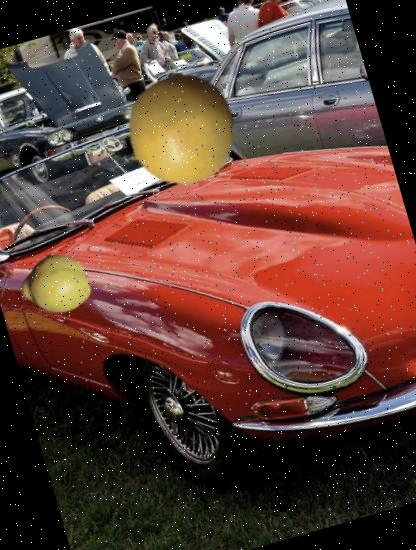Grapefruit: (112, 59, 251, 198)
Quince: (11, 240, 98, 327)
